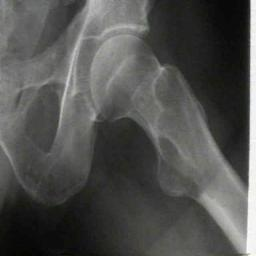cancer: (156, 67, 207, 198)
